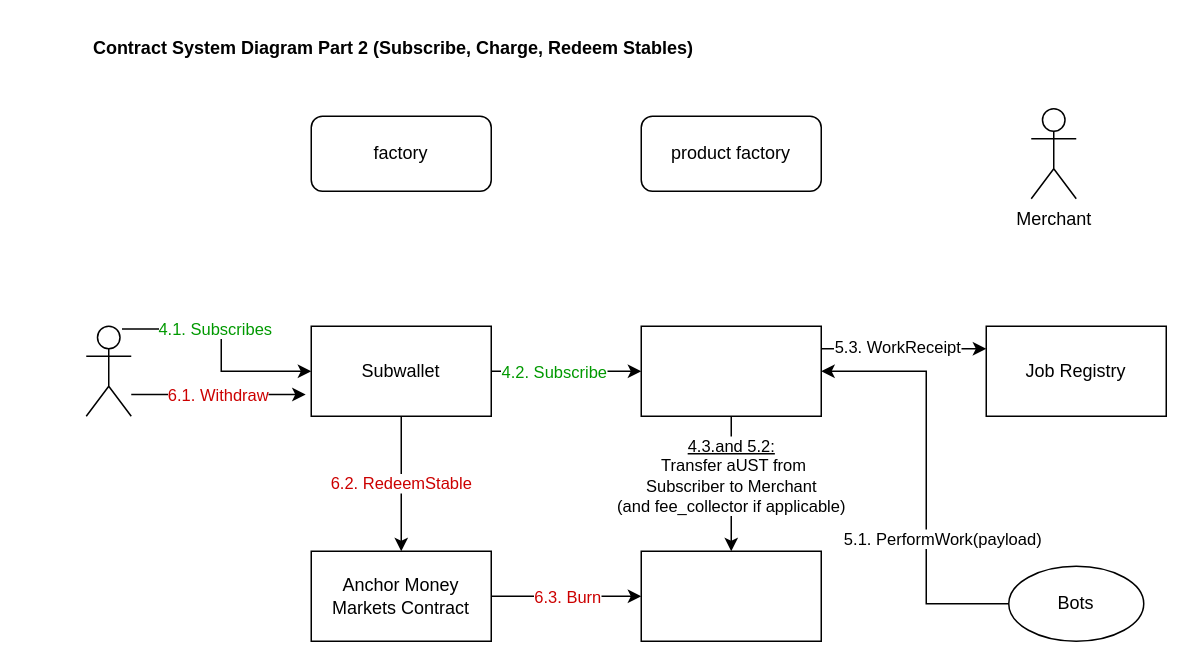
Some shapes in this 1193 by 668 pixel diagram are drawn without their labels. Each missing label, with the centre of its shape:
"Anchor Token" belongs at (730,595).
"Product Contract" belongs at (730,370).
"Subscriber" belongs at (108,370).
